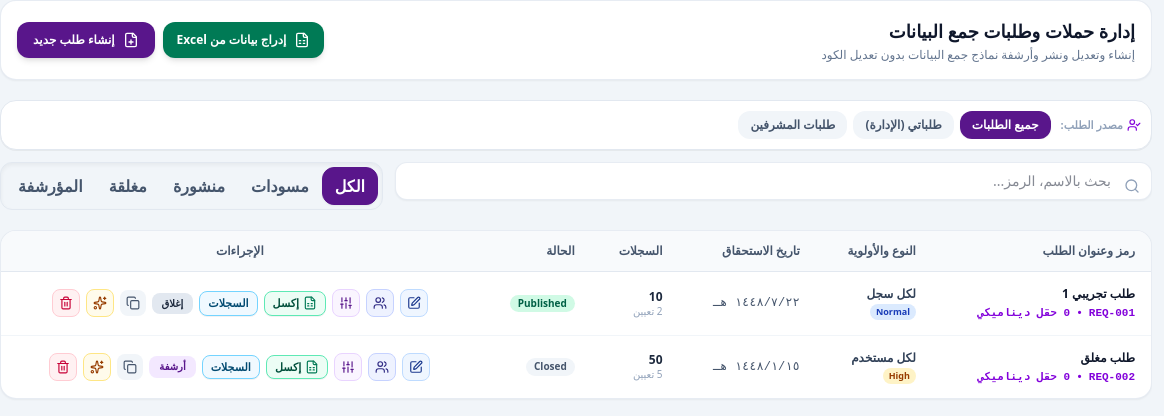
AdminRequests Component › filters requests when typing in the search box
This screenshot has width=1164, height=416.
Type "مغلق" into the field with placeholder "بحث بالاسم، الرمز..." at coordinates (774, 181), box [395,162,1152,200]
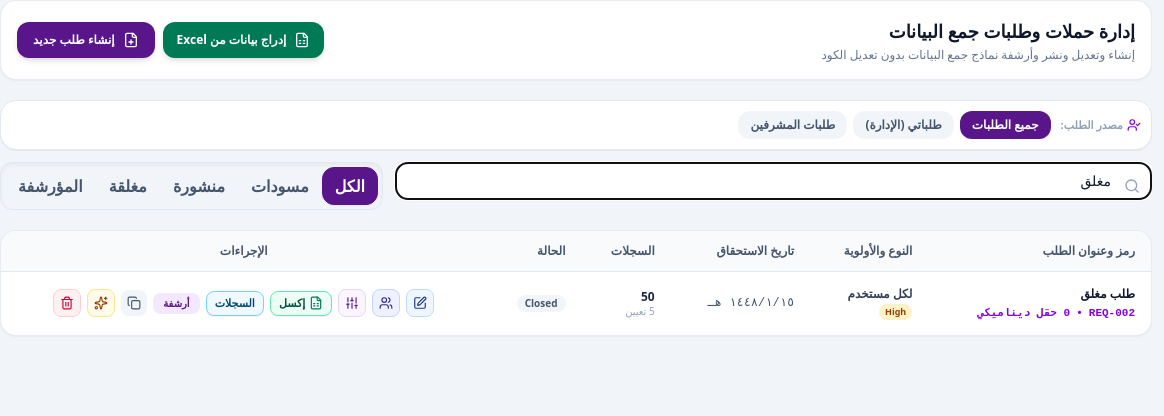
Expected: the text "طلب مغلق" is shown, [1080,285,1135,302]
Now the text "طلب تجريبي 1" is gone
